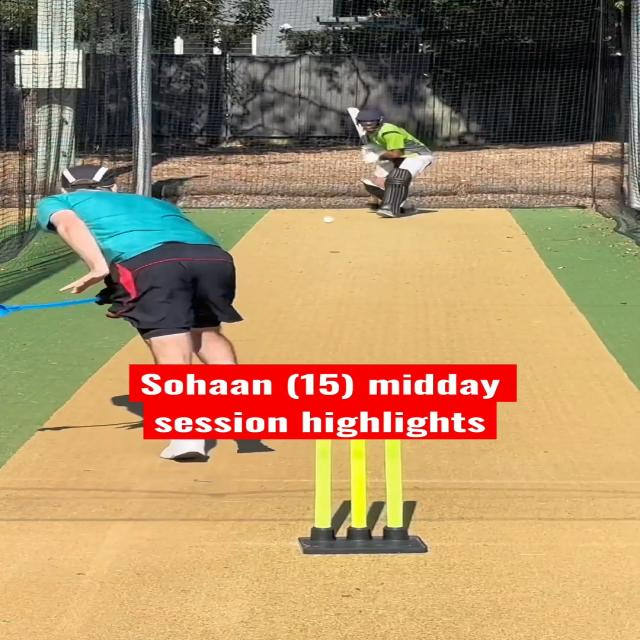ball: (322, 215, 335, 224)
stump: (304, 434, 426, 556)
